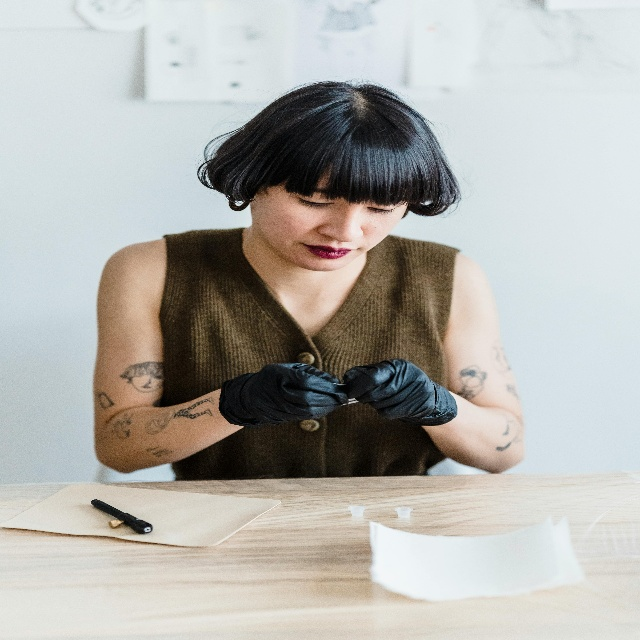Guantes: (343, 360, 443, 428), (225, 360, 349, 414)
